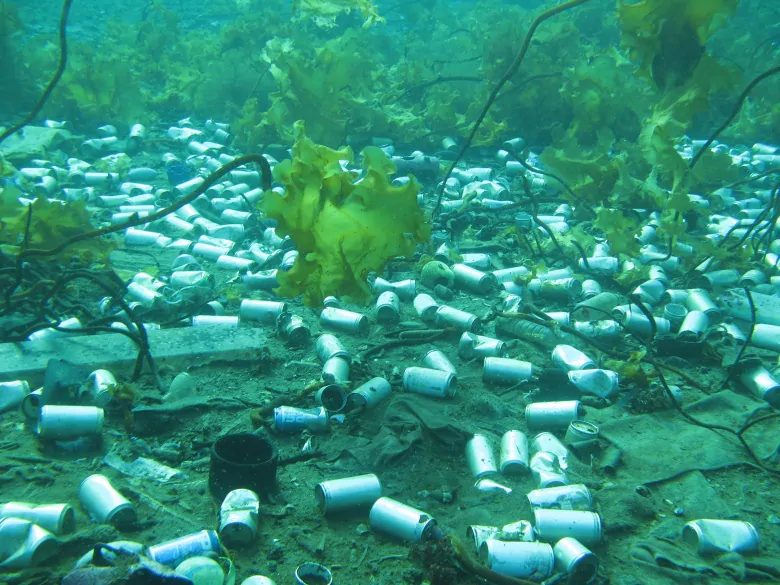litter: (453, 524, 622, 579), (13, 393, 128, 455), (203, 423, 290, 499), (202, 486, 288, 554), (668, 508, 765, 563), (560, 360, 639, 413), (73, 473, 143, 531), (465, 352, 545, 396), (519, 504, 608, 542), (518, 390, 602, 429), (307, 471, 385, 512), (393, 354, 459, 401), (521, 476, 603, 513), (423, 186, 517, 218), (226, 286, 298, 326), (308, 303, 381, 341), (613, 304, 682, 344), (444, 331, 527, 364), (540, 335, 608, 375), (520, 264, 588, 302), (463, 433, 506, 488), (473, 353, 537, 388), (494, 425, 533, 481), (510, 208, 578, 240), (352, 376, 399, 420), (443, 263, 500, 298), (186, 138, 250, 167), (120, 273, 173, 307), (744, 359, 778, 412), (369, 166, 433, 194), (189, 307, 248, 337), (386, 148, 452, 174), (235, 294, 292, 323), (308, 331, 358, 364), (568, 294, 628, 321), (431, 303, 492, 329), (307, 356, 351, 392), (85, 366, 125, 403), (123, 227, 177, 252), (205, 113, 243, 148), (578, 250, 623, 278), (678, 305, 714, 339), (198, 222, 248, 243), (89, 187, 136, 208), (731, 198, 772, 222), (166, 176, 213, 196), (213, 253, 263, 271), (705, 212, 733, 242), (239, 270, 283, 289), (187, 243, 235, 260), (682, 189, 713, 215), (215, 203, 253, 224), (15, 163, 56, 182), (752, 141, 780, 168), (173, 118, 203, 143), (32, 173, 61, 197), (98, 117, 123, 142), (128, 114, 151, 141), (178, 199, 203, 223), (68, 162, 89, 188)
